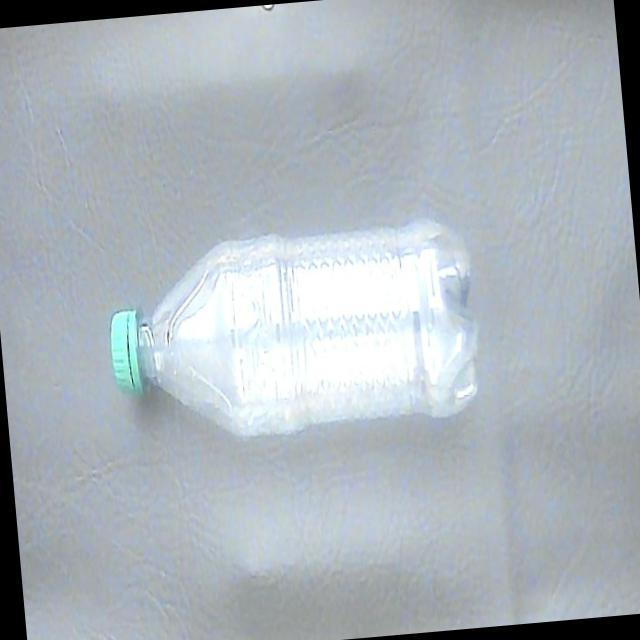good: (100, 206, 488, 457)
